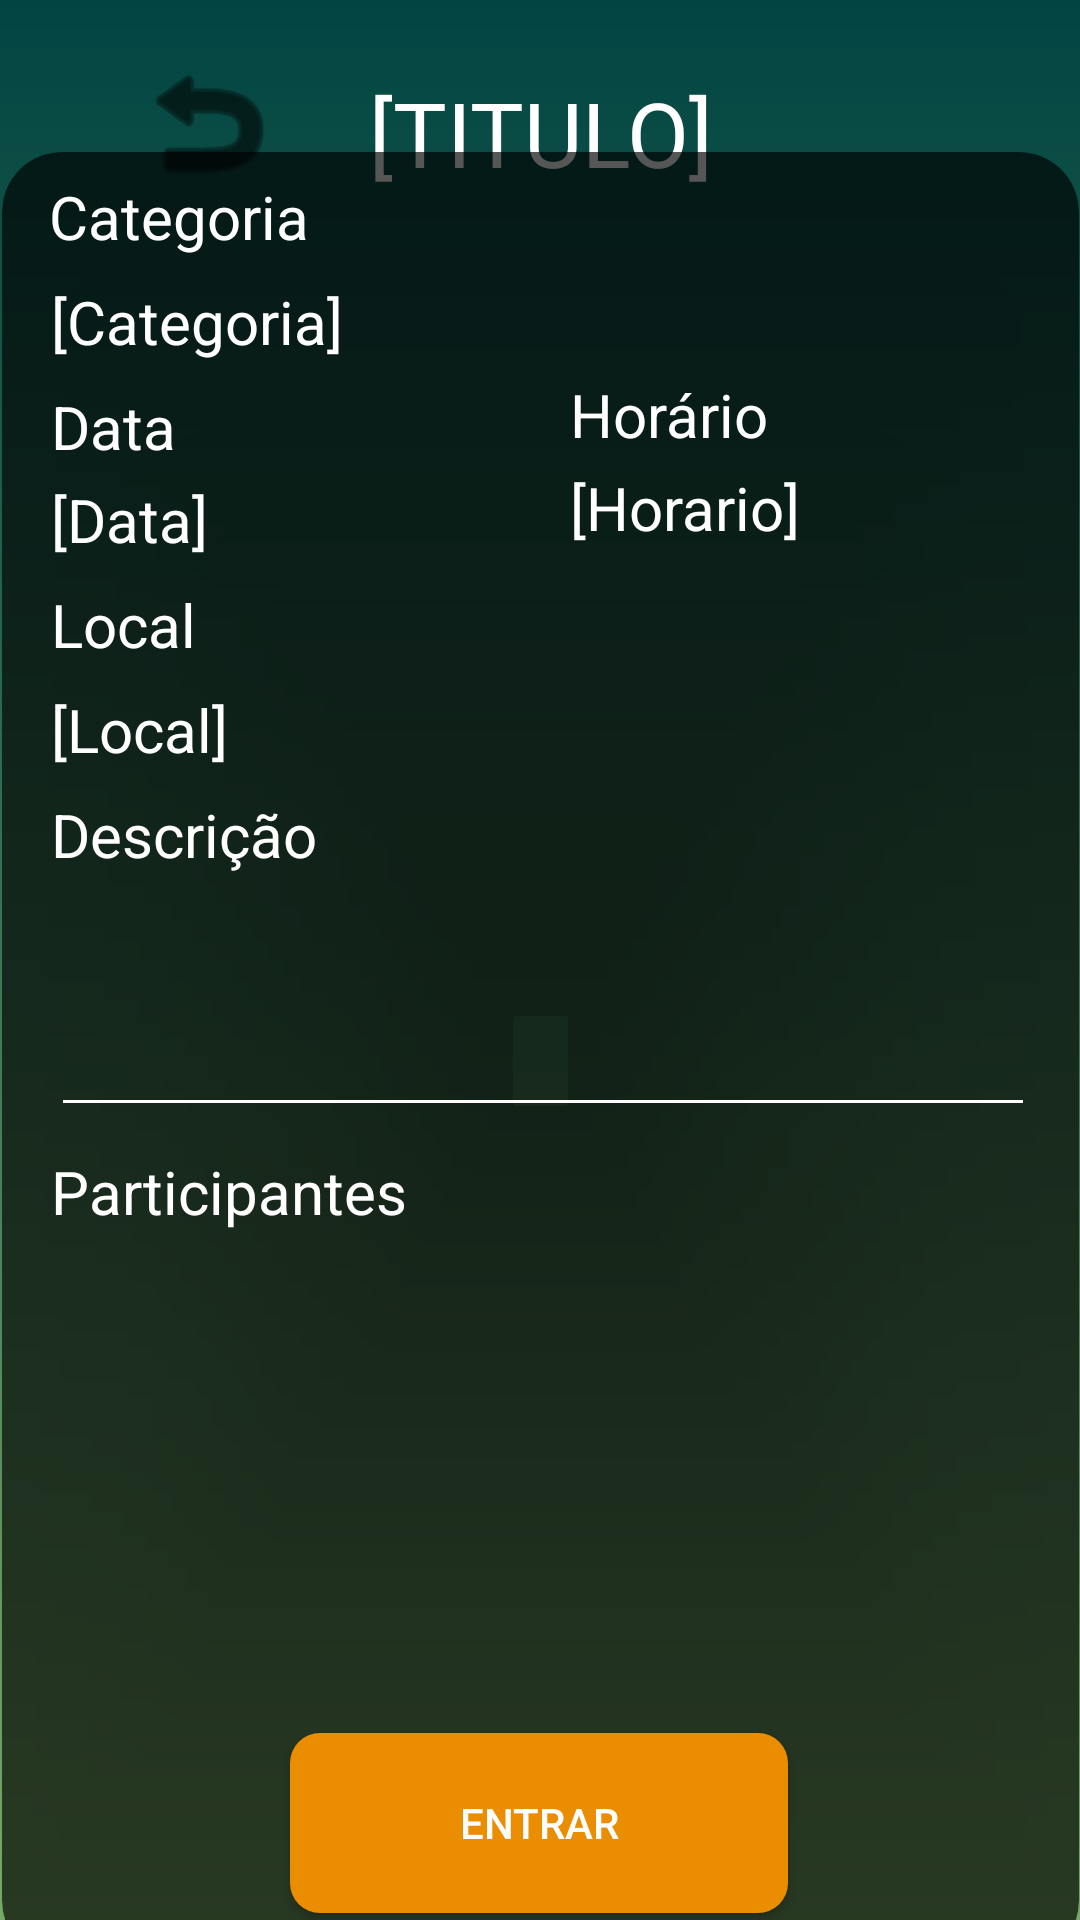

Screen size 1080px×1920px. Icon name, then its center in pixels as [x,y]:
revert: [208,123]
